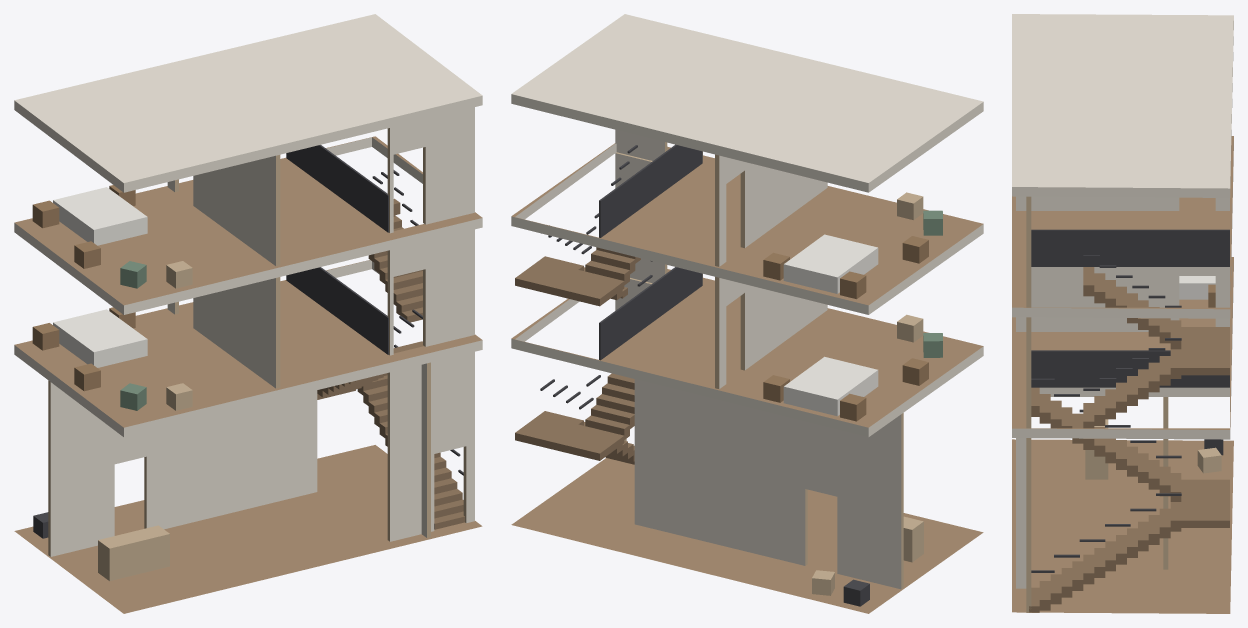
File: interior.glb
The picture shows the model from 3 angles, left to right: view 1: azimuth 30°, elevation 25°; view 2: azimuth 150°, elevation 25°; view 3: azimuth 270°, elevation 25°; orthographic projection.
Parts seen in each view (by area): view 1: slabs, partitions, stair, coarse-s1, coarse-s2, coarse-s0; view 2: slabs, partitions, stair, coarse-s2, coarse-s1, coarse-s0; view 3: slabs, stair, partitions, coarse-s0, coarse-s1.
Part boxes in pixels (x1,y1,x2,y2): slabs: (14,14,482,613); partitions: (48,107,474,556); stair: (286,145,464,529); coarse-s1: (32,307,192,410); coarse-s2: (32,185,192,288); coarse-s0: (33,512,169,581); slabs: (511,14,983,613); partitions: (615,129,903,589); stair: (515,144,702,464); coarse-s2: (763,192,942,299); coarse-s1: (763,314,942,421); coarse-s0: (812,516,923,606); slabs: (1012,14,1233,613); stair: (1029,229,1229,612); partitions: (1016,196,1229,612); coarse-s0: (1085,419,1223,479); coarse-s1: (1179,276,1215,307).
Size of the model in its own units: 10.23 by 11.65 by 5.5.
